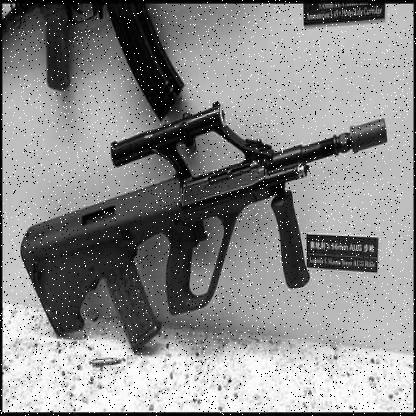rifle: (18, 77, 392, 355)
